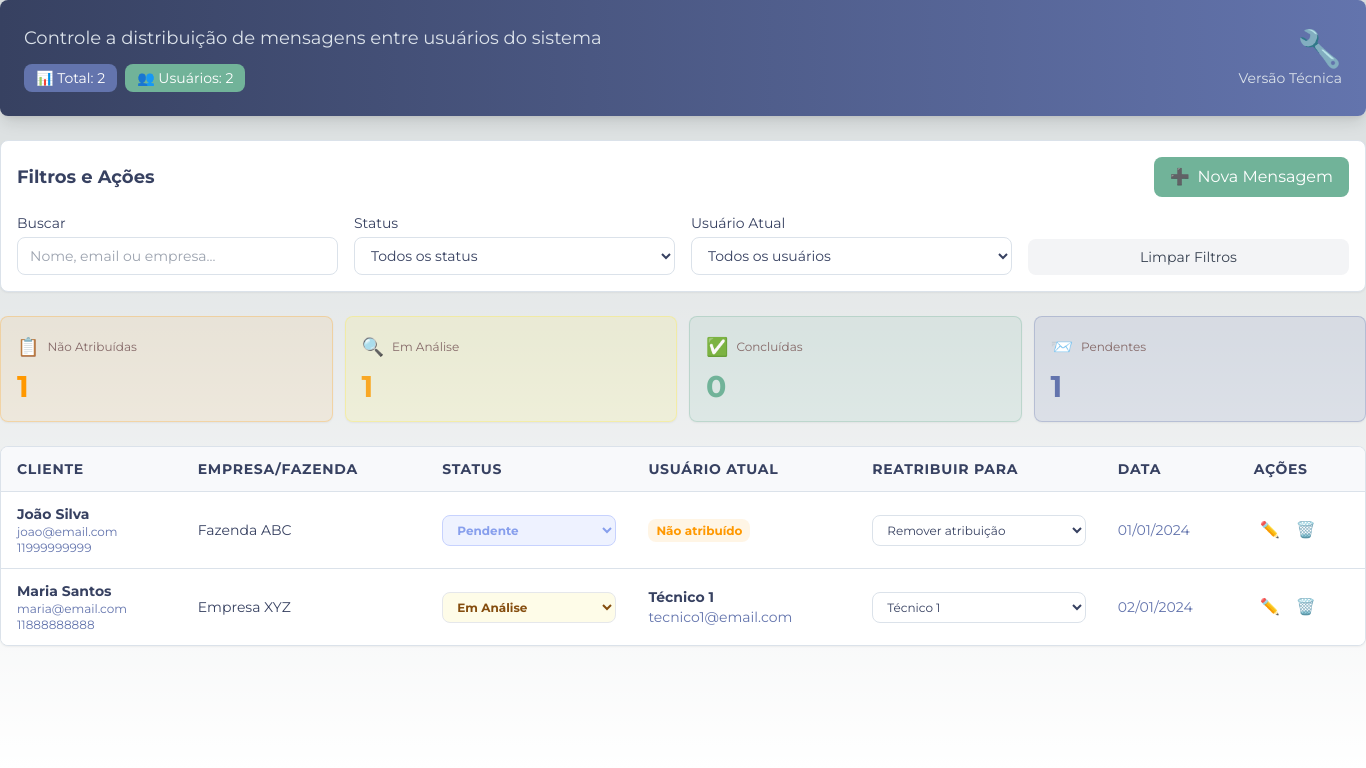
Test: MensagensTecnicasManager › deve filtrar mensagens por termo de busca
Check: the text "João Silva" is shown, box [17,505,90,523]
Check: the text "Maria Santos" is shown, box [17,582,112,600]
Type "João" into the field with placeholder "Nome, email ou empresa...". click: (178, 256)
box: [17,237,338,275]
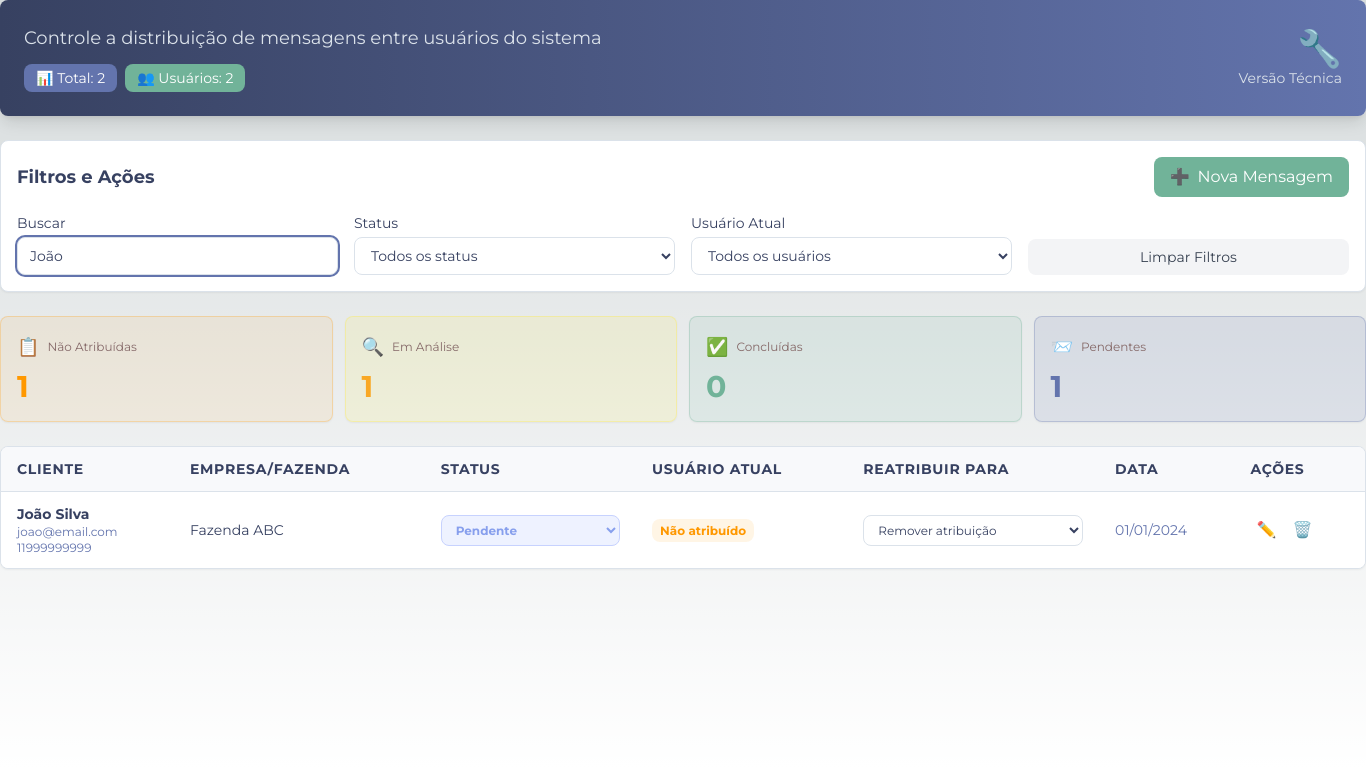
Check: the text "João Silva" is shown, box [17,505,90,523]
Check: the text "Maria Santos" is gone
